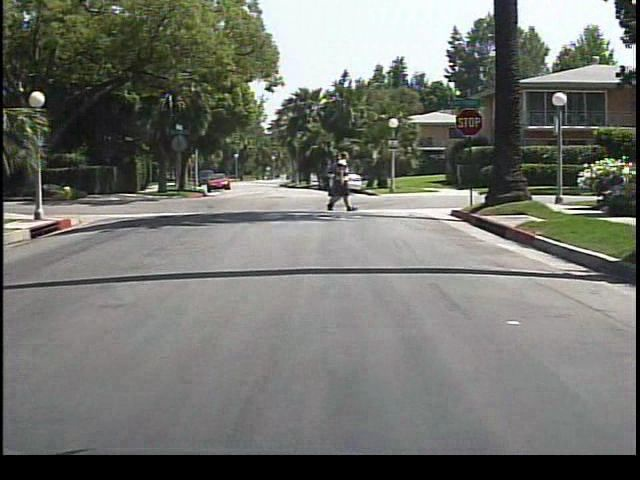person: (323, 149, 351, 213)
